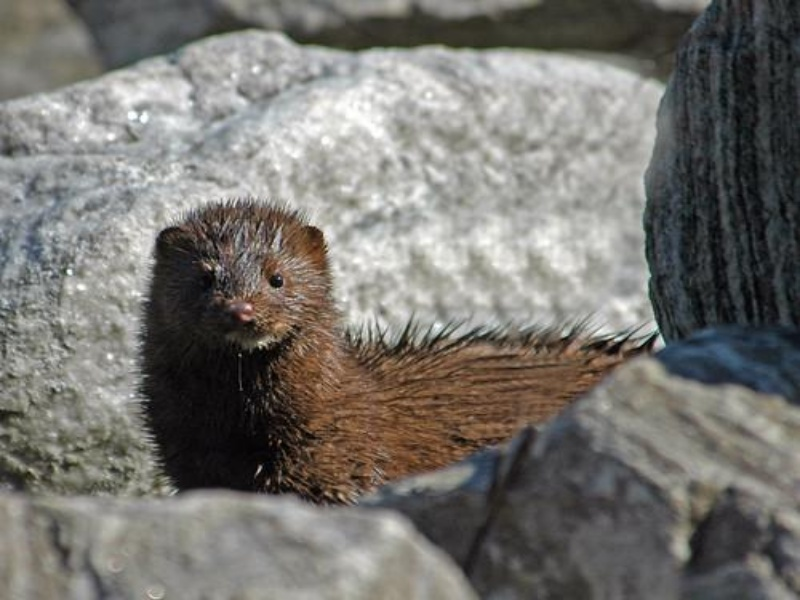minkish: (140, 193, 664, 527)
